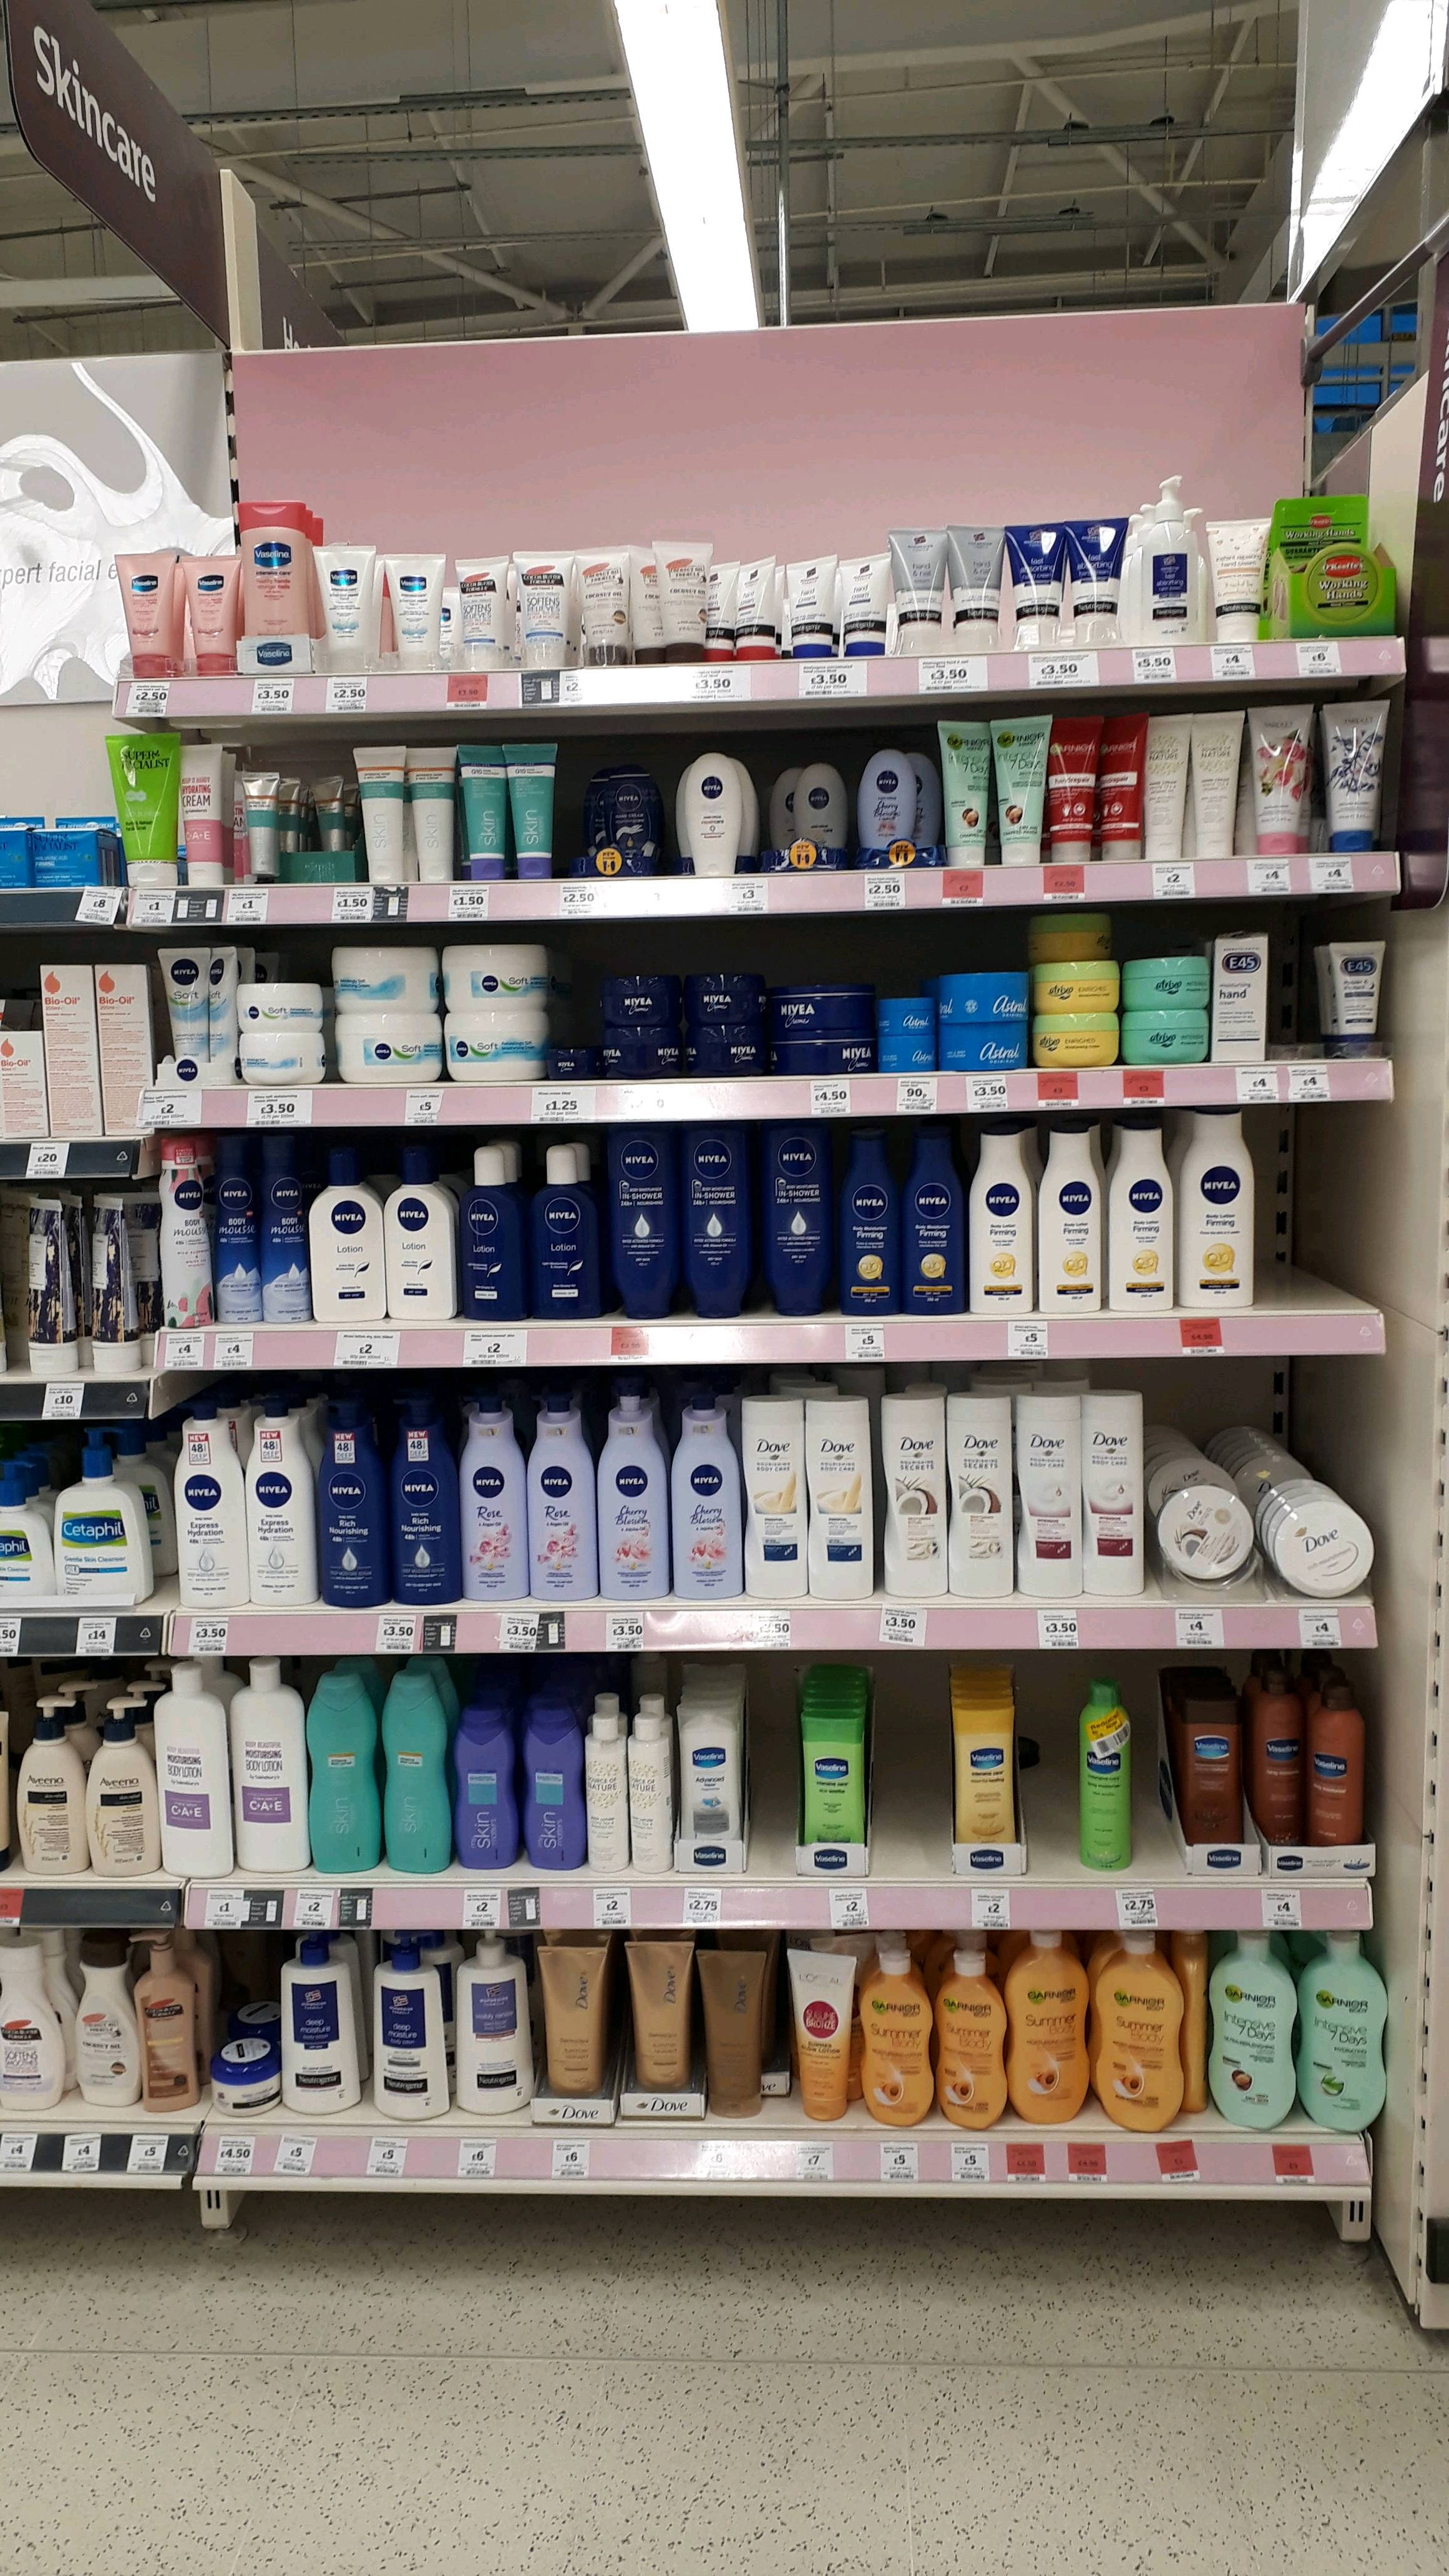Out-of-stock: (874, 1672, 955, 1928)
